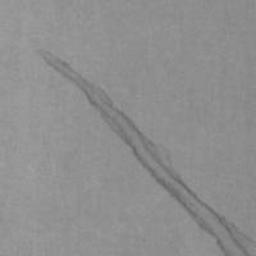Water spot: (36, 49, 256, 256)
